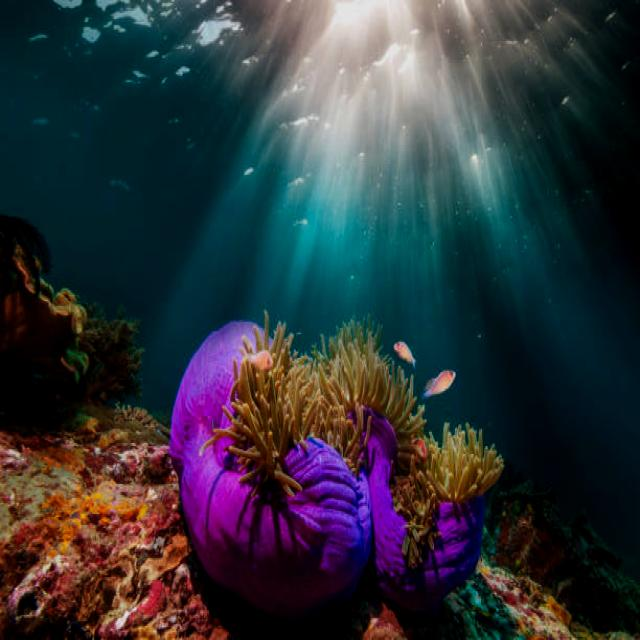Coral: (169, 311, 505, 624)
